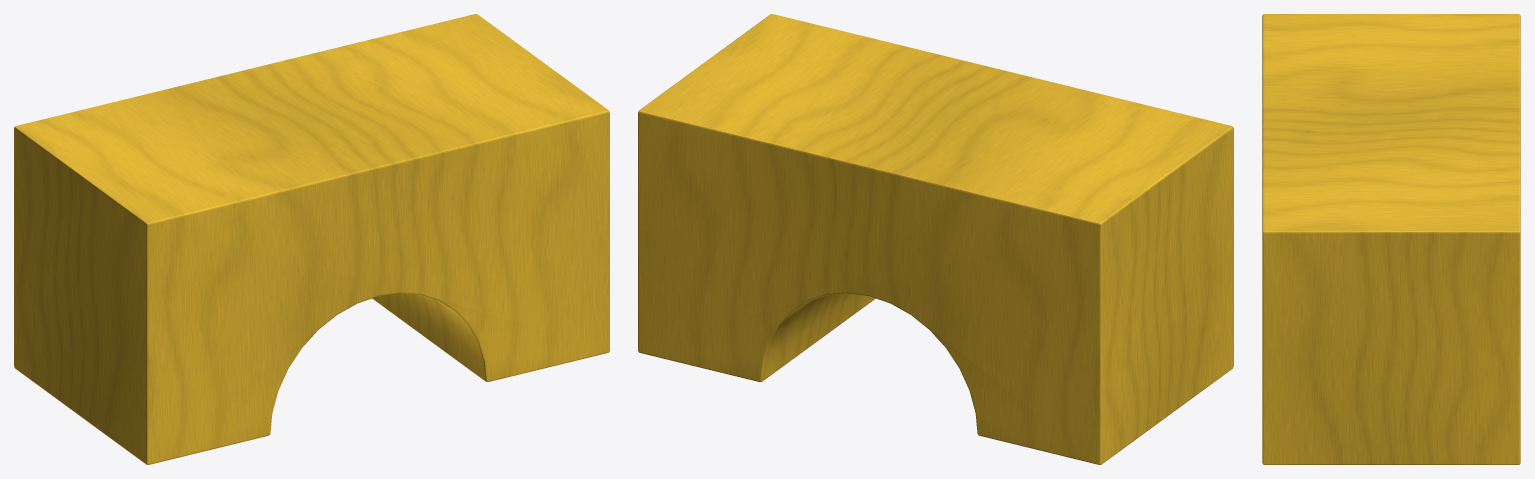
The model's file is block_arch.glb.
The picture shows the model from 3 angles, left to right: view 1: azimuth 30°, elevation 25°; view 2: azimuth 150°, elevation 25°; view 3: azimuth 270°, elevation 25°; orthographic projection. The views are drawn at different scales.
Parts seen in each view (by area): view 1: block_arch; view 2: block_arch; view 3: block_arch.
Part boxes in pixels (x1=…): block_arch: x1=14, y1=14, x2=609, y2=464; block_arch: x1=638, y1=14, x2=1233, y2=464; block_arch: x1=1262, y1=14, x2=1520, y2=464.
Size of the model in its own units: 2.8 by 1.4 by 1.4.
Materials: 1 (1 with a texture image).
